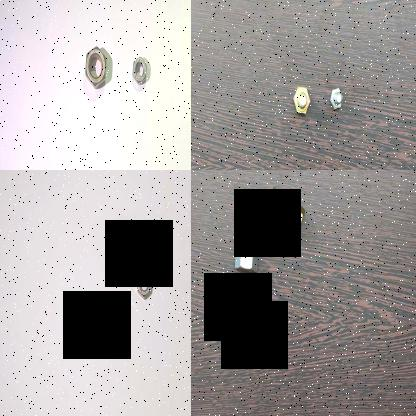Bolts: (268, 184, 308, 240), (232, 212, 262, 280), (292, 82, 310, 119), (328, 86, 346, 114)
NUTS: (108, 213, 138, 267), (84, 40, 109, 95), (130, 53, 152, 89), (130, 270, 152, 300)
